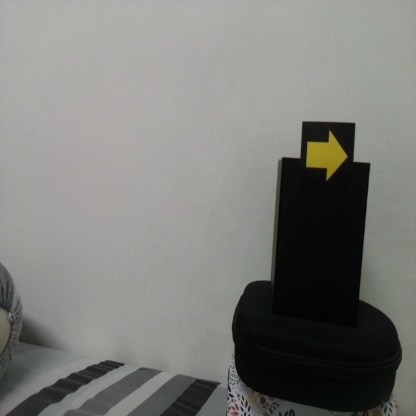id_3: (302, 122, 354, 192)
